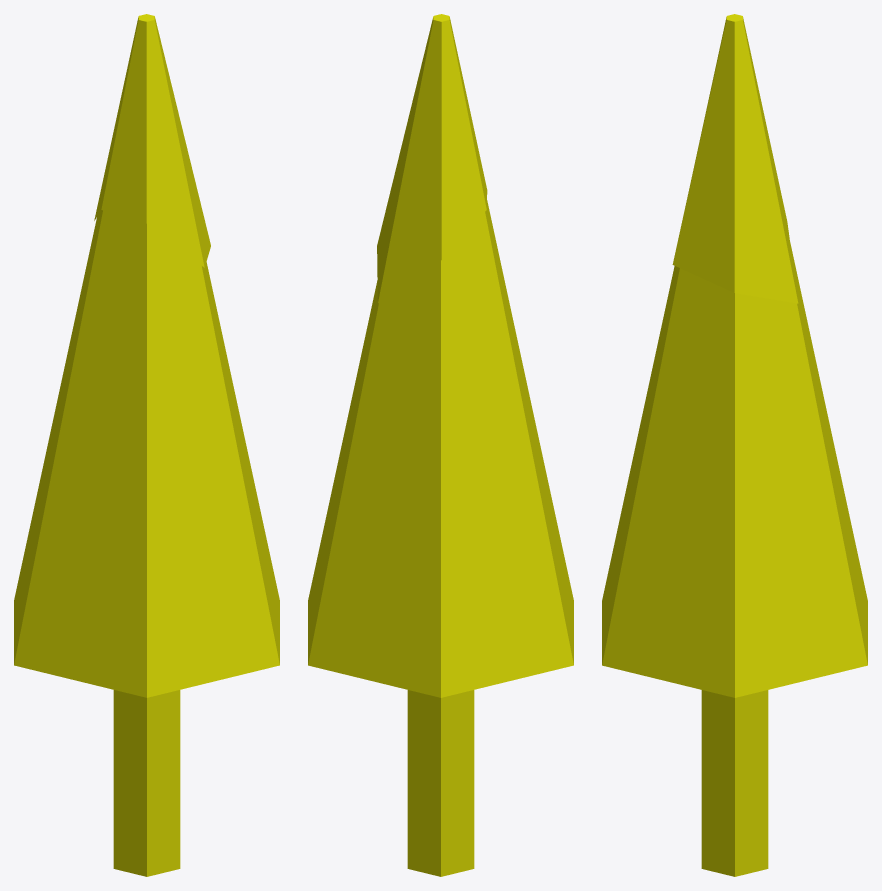
3 views of the same model, side by side, from view 1: azimuth 30°, elevation 25°; view 2: azimuth 150°, elevation 25°; view 3: azimuth 270°, elevation 25° (orthographic).
Visible parts, largest first — view 1: tree2; view 2: tree2; view 3: tree2.
Part boxes in pixels (bbox=[...]): tree2: bbox=[14, 14, 279, 876]; tree2: bbox=[308, 14, 573, 876]; tree2: bbox=[602, 14, 867, 876].
Bounding box in the file's own units: 0.8557 × 2.59 × 0.741.
1 material, 1 textured.
